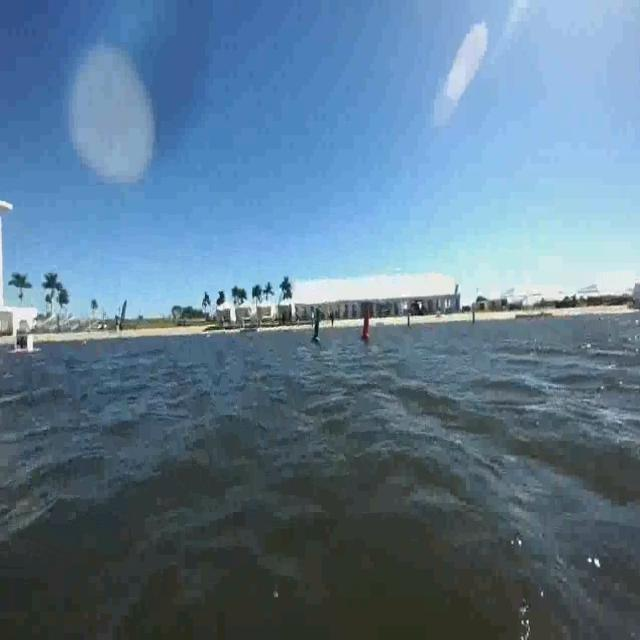green-column-buoy: (312, 307, 323, 343)
red-column-buoy: (360, 308, 372, 340)
